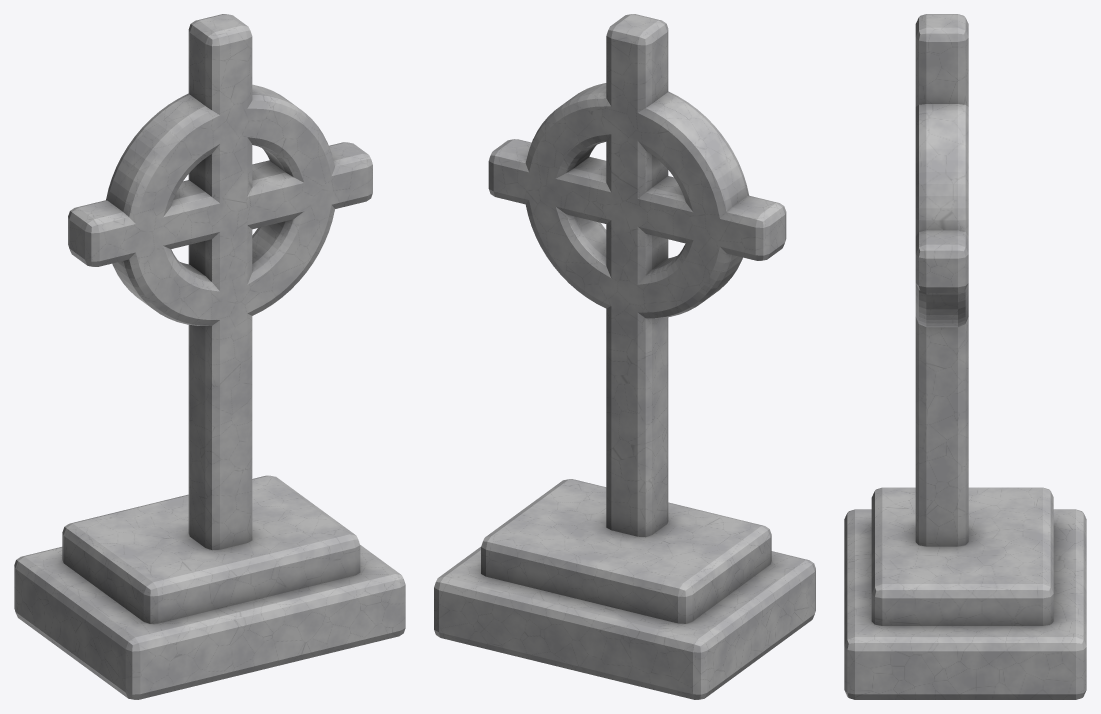
The model's file is Tombstone_B.fbx.
3 views of the same model, side by side, from view 1: azimuth 30°, elevation 25°; view 2: azimuth 150°, elevation 25°; view 3: azimuth 270°, elevation 25° (orthographic). The views are drawn at different scales.
Parts seen in each view (by area): view 1: Tombstone_B; view 2: Tombstone_B; view 3: Tombstone_B.
Boxes of the visible parts, box(x1,y1,x2,y2) form: Tombstone_B: box(14, 14, 405, 699); Tombstone_B: box(434, 14, 815, 699); Tombstone_B: box(844, 14, 1086, 699).
Size of the model in its own units: 2.32 by 4.74 by 1.69.
Materials: 1 (1 with a texture image).
